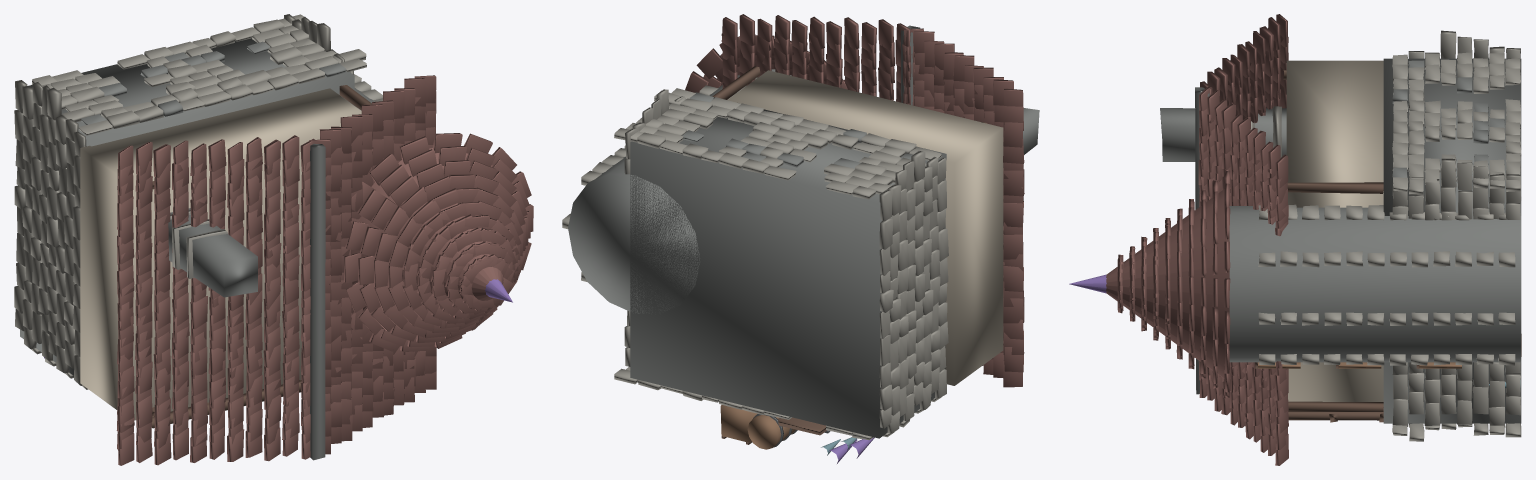
File: magic_shop_hd.glb
3 renders of one model, left to right at view 1: azimuth 30°, elevation 25°; view 2: azimuth 150°, elevation 25°; view 3: azimuth 270°, elevation 25°, orthographic. The views are drawn at different scales.
Size of the model in its own units: 9.15 by 7.39 by 9.56.
